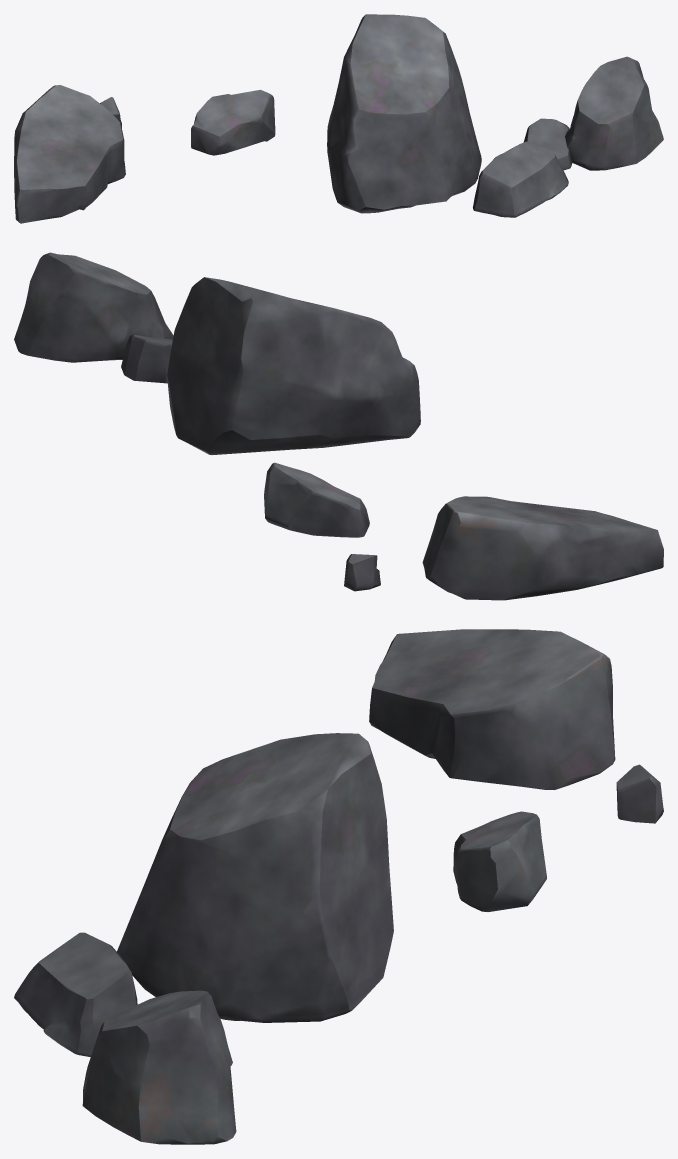
Rendered from caos_drs_rubble_02a_chaos_v36.glb.
3 views of the same model, one above another, from view 1: azimuth 30°, elevation 25°; view 2: azimuth 150°, elevation 25°; view 3: azimuth 270°, elevation 25° (orthographic). The views are drawn at different scales.
Visible parts, largest first — view 1: caos_drs_rubble_02a; view 2: caos_drs_rubble_02a; view 3: caos_drs_rubble_02a.
Part boxes in pixels (left/top/right/bottom): caos_drs_rubble_02a: left=14, top=14, right=663, bottom=223; caos_drs_rubble_02a: left=14, top=252, right=663, bottom=600; caos_drs_rubble_02a: left=14, top=629, right=663, bottom=1144.
Size of the model in its own units: 4.22 by 0.9698 by 2.49.
1 material, 1 textured.
